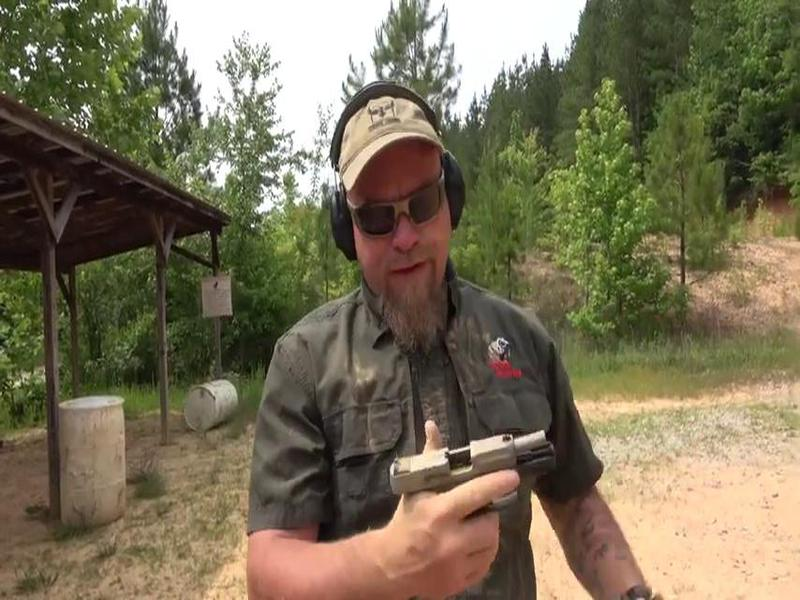Pistola: (355, 417, 570, 564)
